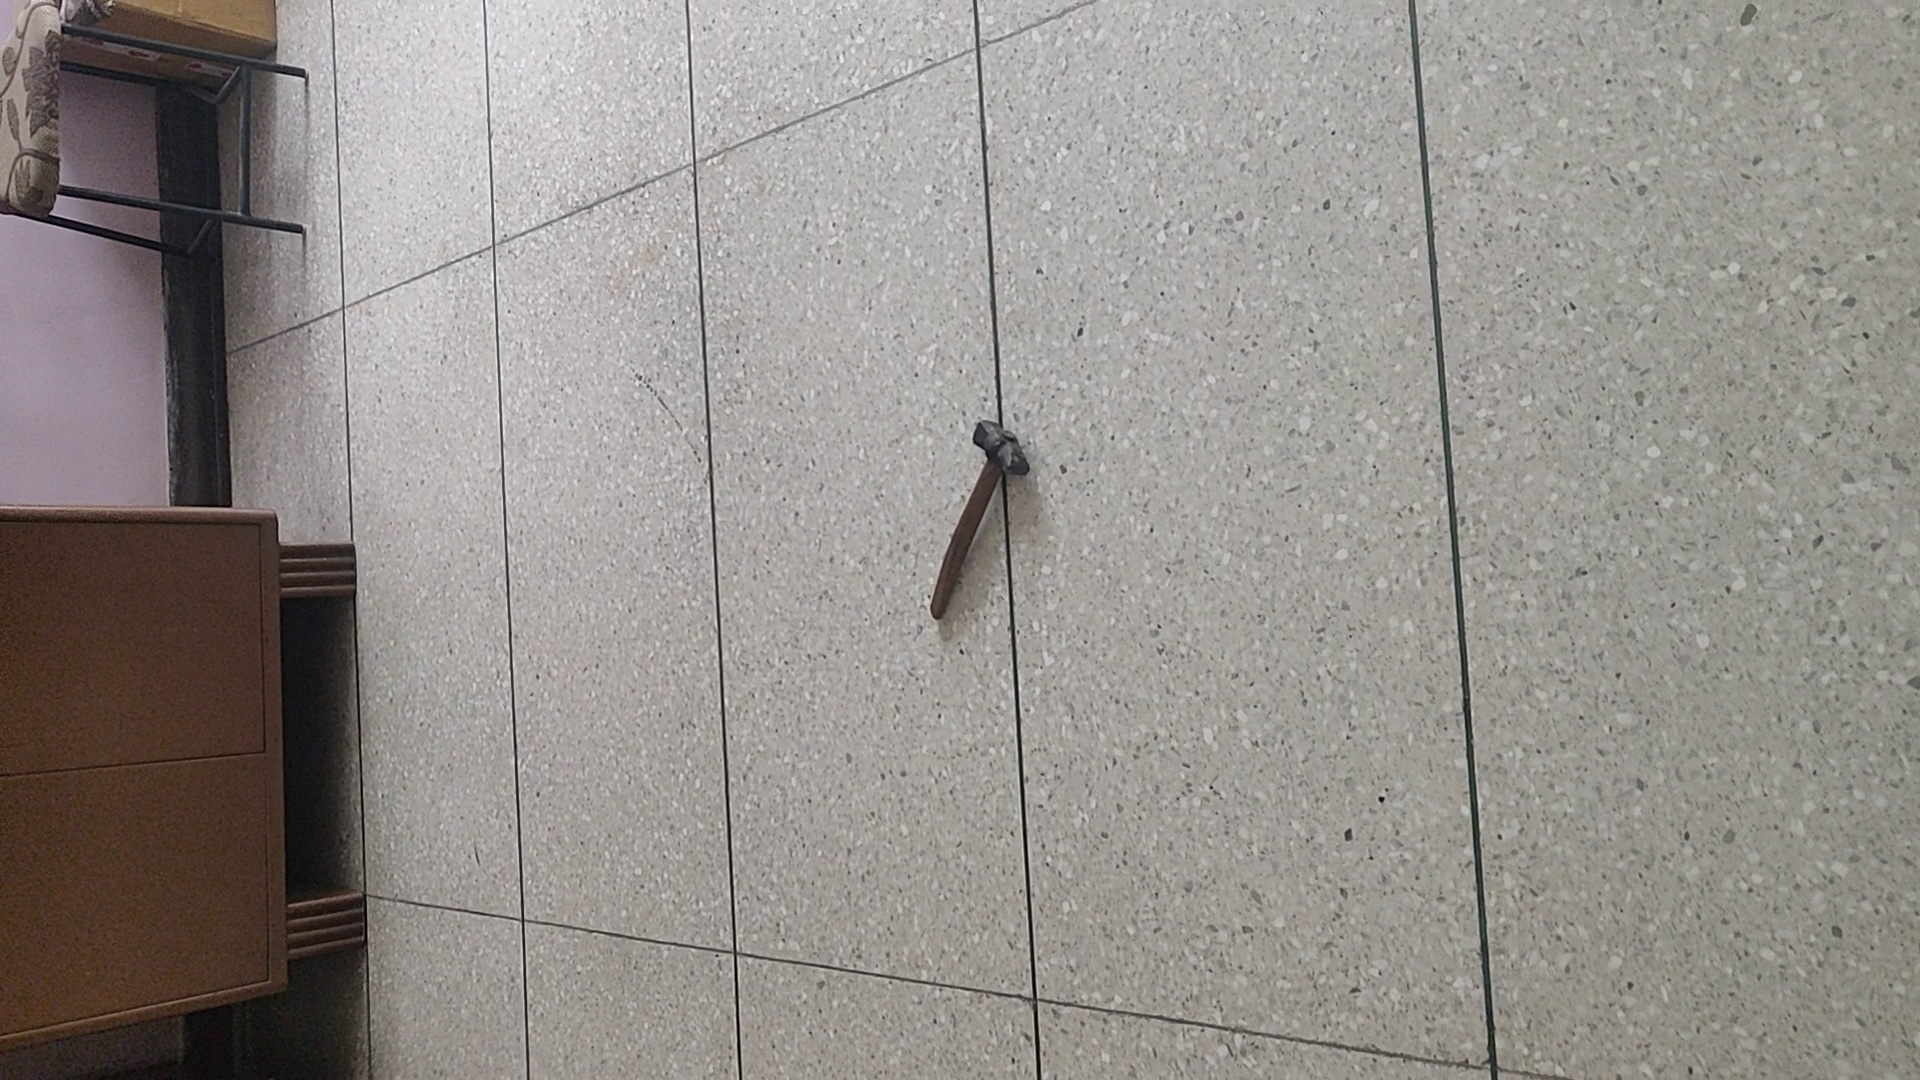hammer: (924, 415, 1033, 622)
